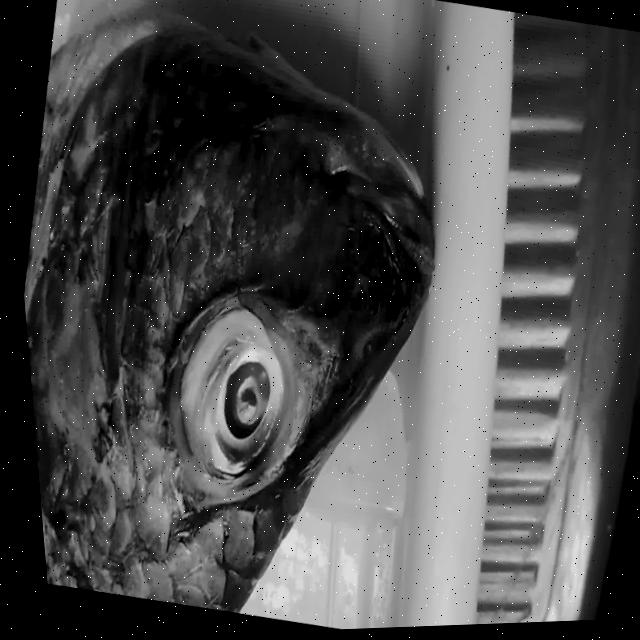Fresh: (120, 260, 331, 551)
